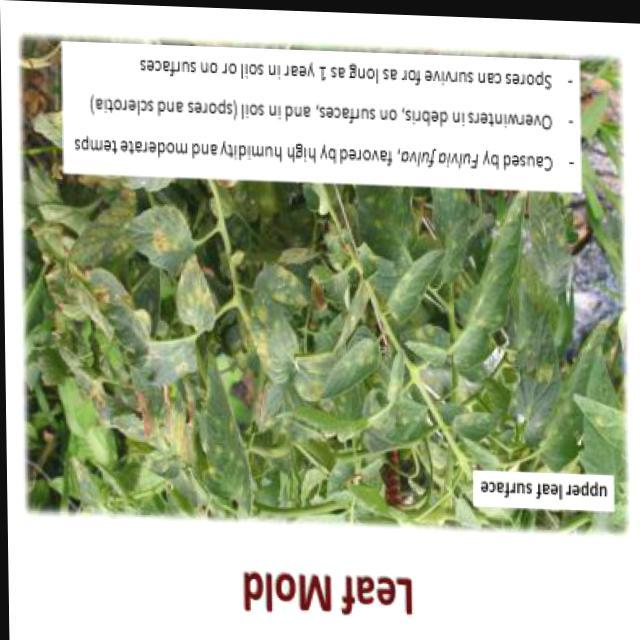Tomato mold leaf: (453, 186, 532, 368), (525, 312, 616, 468), (72, 266, 180, 381), (202, 345, 260, 511), (281, 330, 378, 409), (64, 192, 140, 285), (514, 286, 564, 427), (118, 198, 192, 277), (384, 238, 446, 322), (248, 295, 298, 384), (173, 245, 220, 332), (432, 186, 472, 282), (380, 396, 428, 444), (400, 327, 451, 364), (446, 404, 497, 436), (384, 344, 404, 402)
